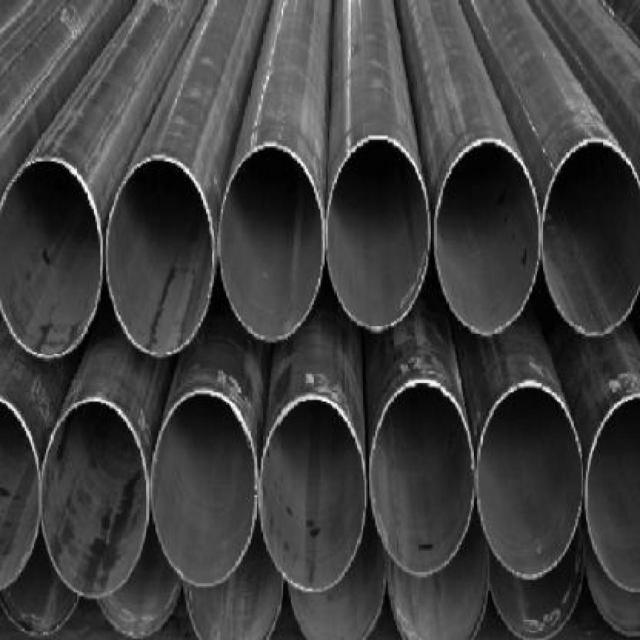pipe: (101, 150, 217, 359), (37, 391, 153, 600), (211, 139, 328, 345), (430, 135, 544, 343), (471, 379, 587, 582), (321, 134, 435, 336), (256, 394, 370, 596), (149, 389, 262, 591), (369, 381, 480, 577), (0, 156, 103, 363), (540, 136, 640, 339), (583, 397, 640, 593), (389, 539, 491, 639), (284, 543, 387, 638), (488, 545, 589, 640), (0, 392, 43, 597), (184, 565, 288, 638), (92, 561, 183, 635), (0, 564, 86, 639), (584, 571, 640, 638)
